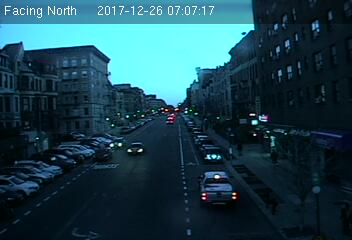car: (197, 169, 238, 207), (202, 145, 223, 162), (126, 142, 145, 154), (92, 148, 111, 160), (108, 139, 125, 148)
